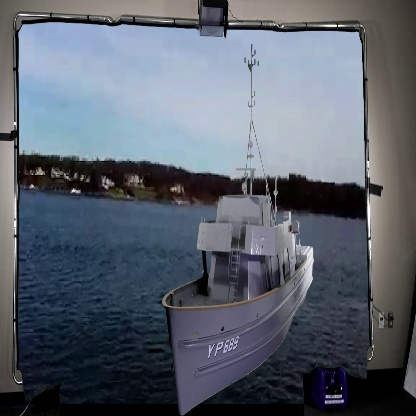YP689: (162, 49, 314, 408)
